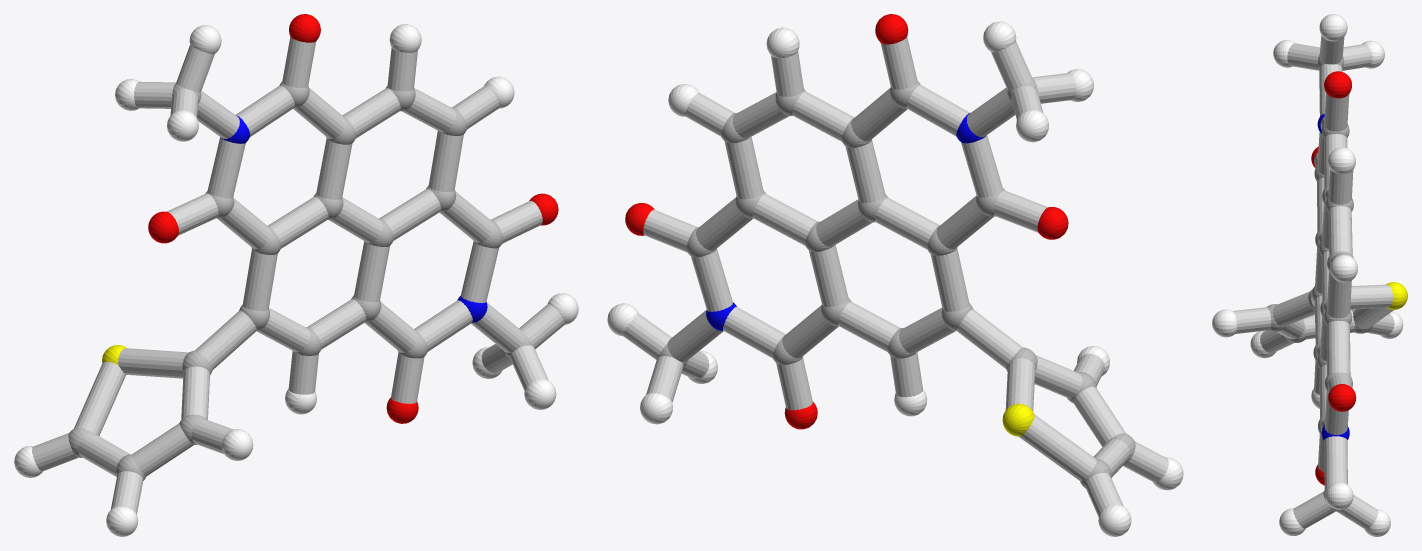
File: Dimethyl_Naphthalene_Dicarboximide_Phi_10_Theta_260_Thiophene.glb
3 views of the same model, side by side, from view 1: azimuth 30°, elevation 25°; view 2: azimuth 150°, elevation 25°; view 3: azimuth 270°, elevation 25° (orthographic). The views are drawn at different scales.
Parts seen in each view (by area): view 1: grp14119, grp7241, grp1, grp12309, grp11585; view 2: grp14119, grp7241, grp1, grp12309, grp13757, grp11585; view 3: grp14119, grp7241, grp1, grp12309, grp13757.
Part boxes in pixels (x1,y1,x2,y2): grp14119: (32, 37, 564, 514); grp7241: (14, 24, 578, 536); grp1: (68, 81, 533, 480); grp12309: (148, 14, 558, 423); grp11585: (220, 115, 487, 322); grp14119: (623, 36, 1168, 517); grp7241: (607, 21, 1183, 536); grp1: (658, 79, 1135, 488); grp12309: (625, 14, 1068, 429); grp13757: (1002, 403, 1034, 436); grp11585: (706, 113, 985, 330); grp14119: (1233, 35, 1394, 529); grp7241: (1212, 14, 1403, 536); grp1: (1266, 55, 1372, 511); grp12309: (1311, 71, 1356, 485); grp13757: (1386, 282, 1407, 309).
Bounding box in the file's own units: 11.48 × 9.29 × 4.18.
